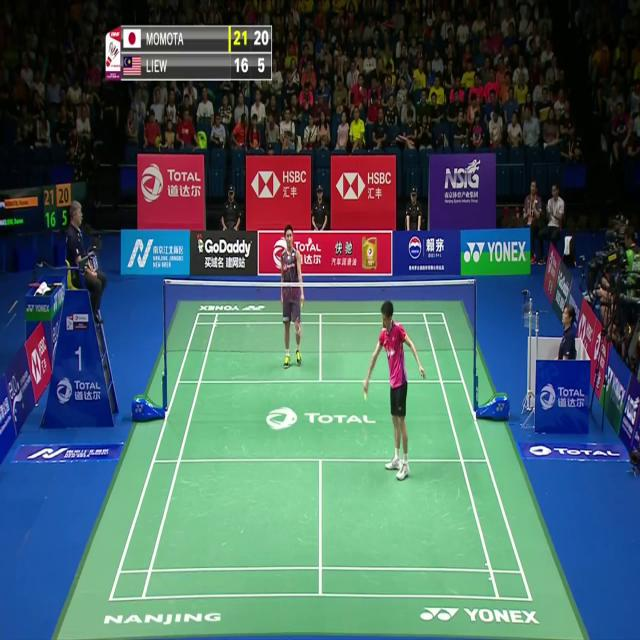Shuttlecock: (306, 236, 313, 248)
